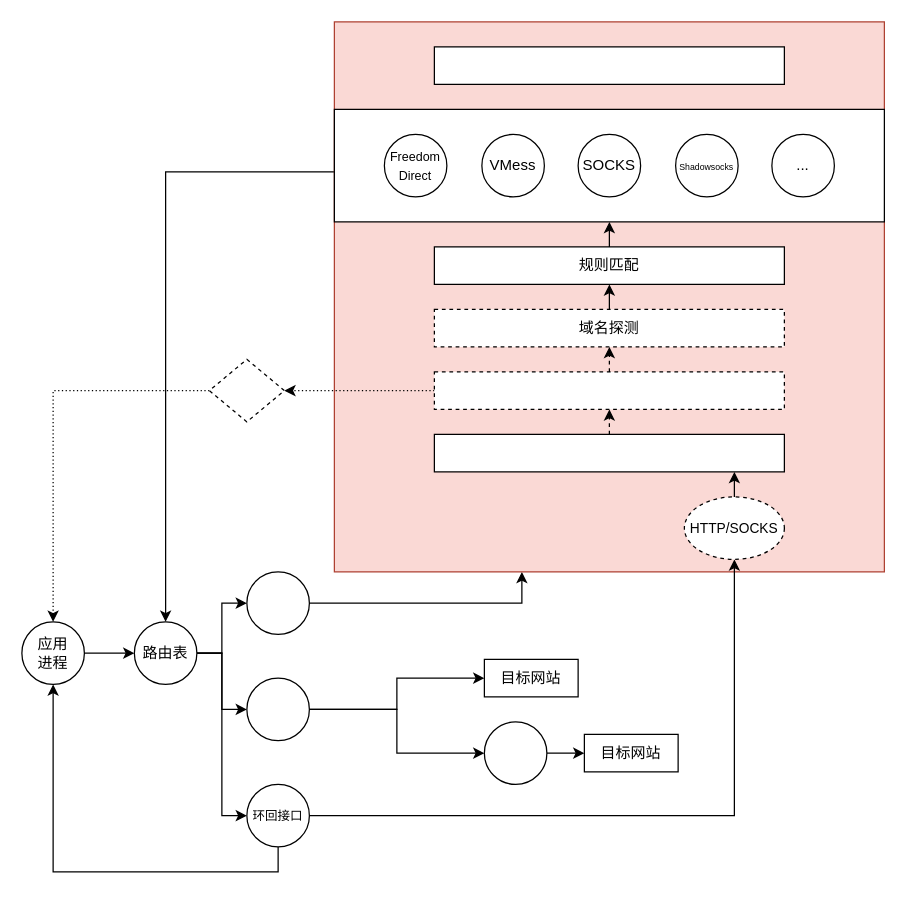
Image size: 906x904. Some labels were removed from this diagram. The shapes that lost their labels are listed below. From the top down, each one's centre as x and y in pixels, then its label:
point 608,65: 内置 DNS
point 246,390: Fake IP
point 608,390: Fake DNS
point 608,452: 查找进程
point 277,602: TUN
point 277,709: 以太网 eth0 en0
point 515,752: 代理 服务器
